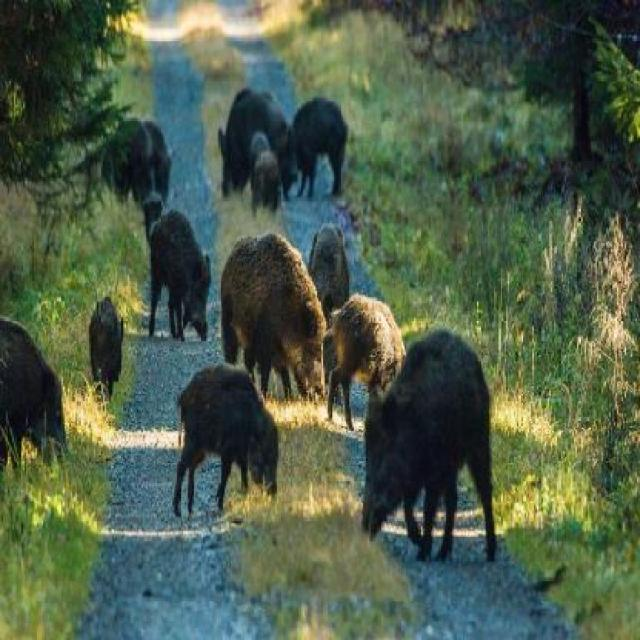wildboar: (353, 326, 509, 563), (168, 356, 289, 527), (215, 224, 332, 398), (321, 283, 416, 443), (0, 304, 69, 510), (213, 80, 304, 226), (151, 196, 215, 349), (286, 93, 349, 199), (128, 112, 175, 240), (308, 218, 352, 354), (107, 113, 159, 222), (88, 292, 128, 402)
